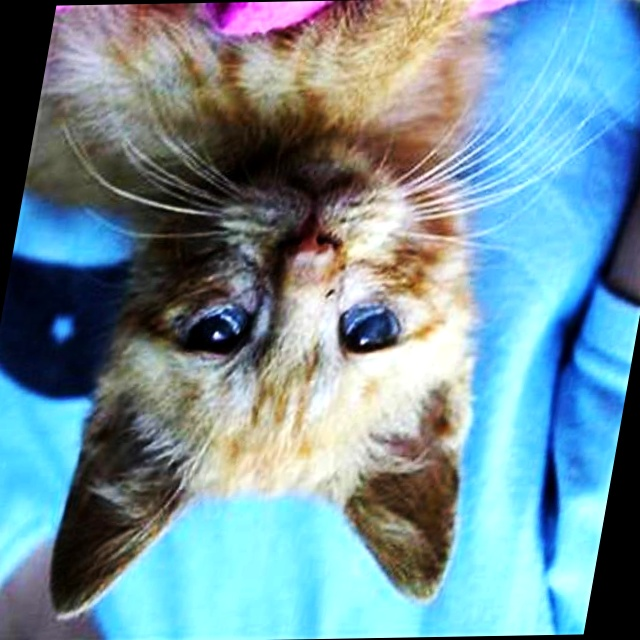eye_infection: (164, 303, 256, 360), (334, 302, 412, 361)
